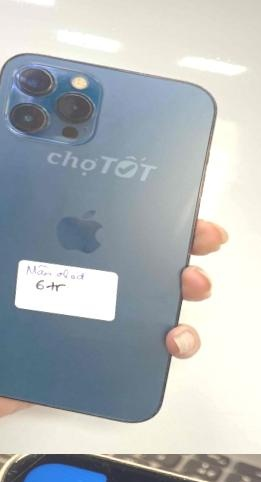scratch: (0, 454, 55, 482)
